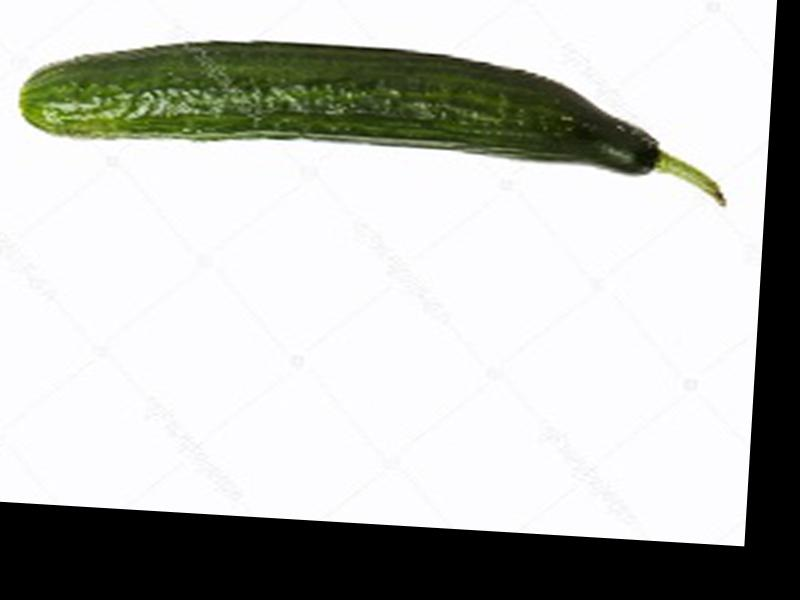Cucumber: (19, 28, 737, 206)
